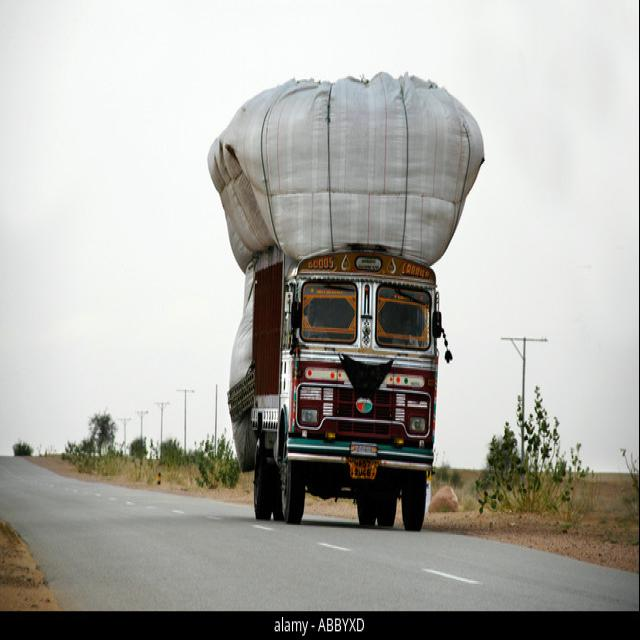goods: (209, 72, 484, 472)
truck: (253, 240, 442, 532)
